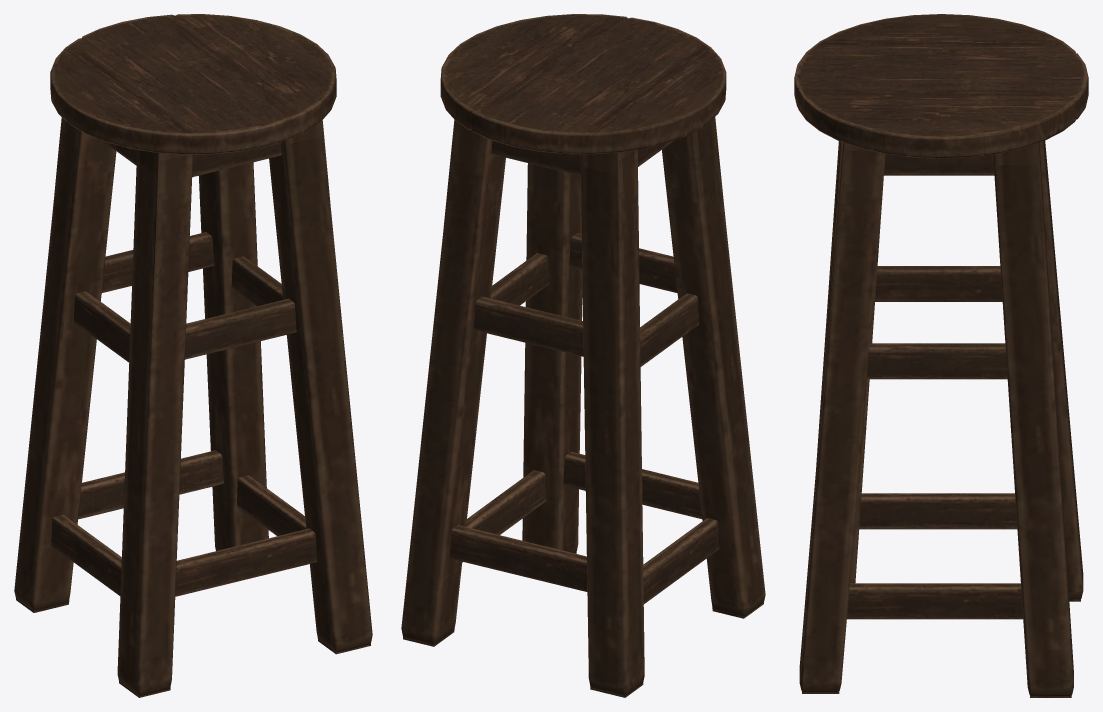
The model's file is Barstool.glb.
The picture shows the model from 3 angles, left to right: view 1: azimuth 30°, elevation 25°; view 2: azimuth 150°, elevation 25°; view 3: azimuth 270°, elevation 25°; orthographic projection. The views are drawn at different scales.
Parts seen in each view (by area): view 1: Barstool; view 2: Barstool; view 3: Barstool.
Part boxes in pixels (left/top/right/bottom): Barstool: left=14, top=14, right=372, bottom=697; Barstool: left=401, top=14, right=765, bottom=697; Barstool: left=794, top=14, right=1088, bottom=697.
Bounding box in the file's own units: 0.3602 × 0.7602 × 0.3602.
Materials: 1 (1 with a texture image).
